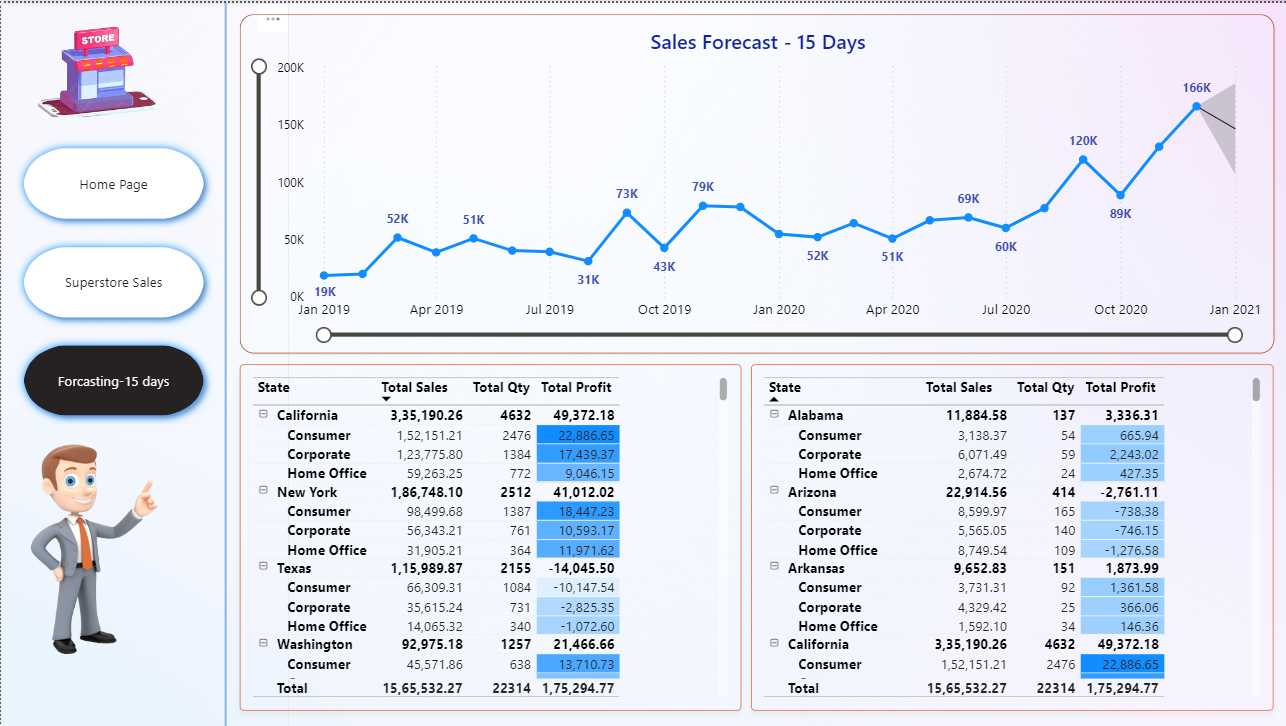

Layout of this report page (visuals, bound fields, positions):
{"tool":"powerbi","page":{"name":"Forcasting-15 days","canvas":[1280,720],"ordinal":2},"visuals":[{"type":"shape","box":[0,0,286,775.2],"z":0},{"type":"shape","box":[197.4,0,51.6,719.8],"z":1000},{"type":"pivotTable","fields":{"Rows":["Superstore data.State","Superstore data.Segment"],"Values":["All Measure.Total Sales","All Measure.Total Qty","All Measure.Total Profit"]},"box":[237.3,360,498.8,344.8],"z":2000},{"type":"pivotTable","fields":{"Rows":["Superstore data.State","Superstore data.Segment"],"Values":["All Measure.Total Sales","All Measure.Total Qty","All Measure.Total Profit"]},"box":[746.9,360,520.3,344.8],"z":3000},{"type":"lineChart","title":"Sales Forecast - 15 Days","fields":{"Y":["All Measure.Total Sales"],"Category":["Superstore data.Order Date.Variation.Date Hierarchy.Year","Superstore data.Order Date.Variation.Date Hierarchy.Quarter","Superstore data.Order Date.Variation.Date Hierarchy.Month"]},"box":[237.3,11.6,1029.9,337.6],"z":4000},{"type":"image","box":[27.8,11.6,140.6,107.5],"z":5000},{"type":"pageNavigator","box":[13.4,136.1,197,284.8],"z":6000},{"type":"image","box":[7.2,420.9,161.2,246.3],"z":7000}]}

Visuals, with their boxes in screenshot pixels (x1, y1, x2, y2), scaled from the page's 1280x720 canvas onto the 1286x726 screenshot:
shape: bbox(0, 0, 287, 725)
shape: bbox(198, 0, 250, 725)
pivotTable - Superstore data.State x Superstore data.Segment: bbox(238, 363, 740, 711)
pivotTable - Superstore data.State x Superstore data.Segment: bbox(750, 363, 1273, 711)
"Sales Forecast - 15 Days" lineChart: bbox(238, 12, 1273, 352)
image: bbox(28, 12, 169, 120)
pageNavigator: bbox(13, 137, 211, 424)
image: bbox(7, 424, 169, 673)
